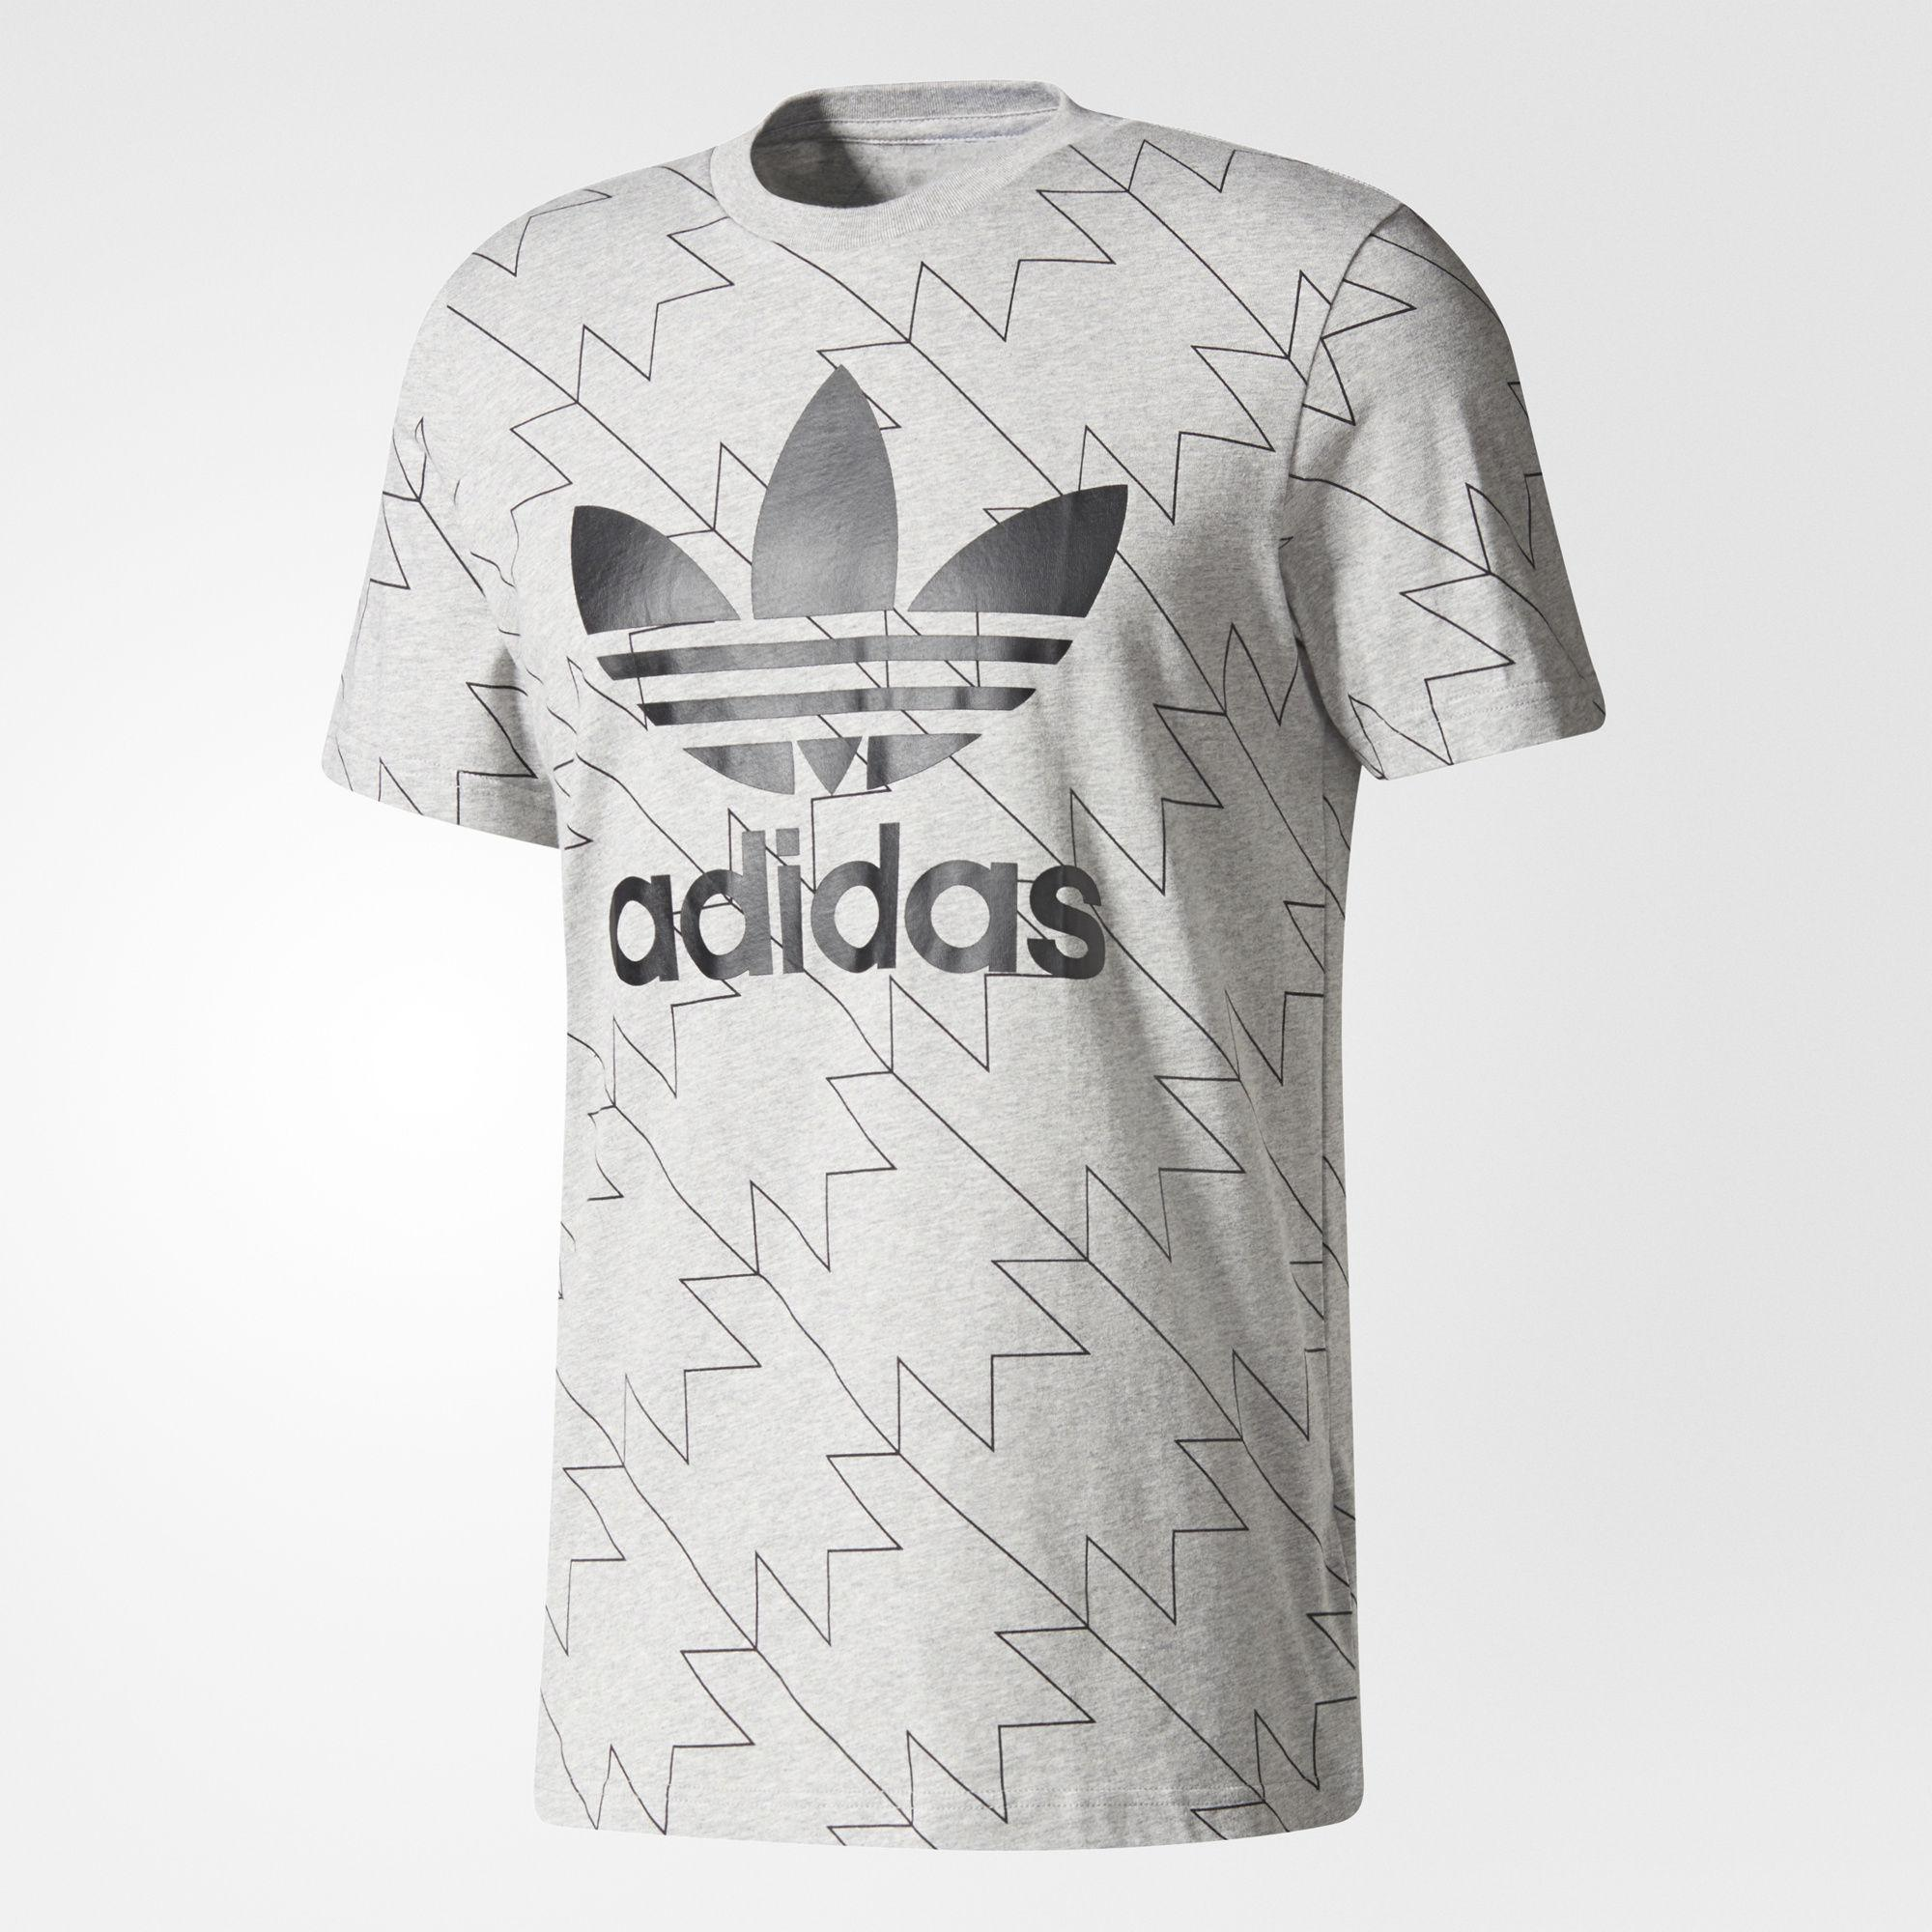teeshirt: (297, 55, 1614, 1911)
